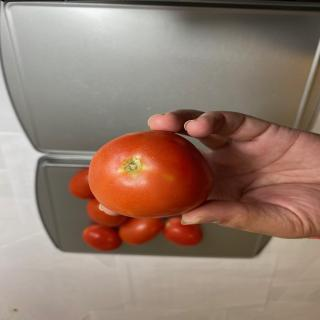Apple: (88, 130, 215, 218)
Chilli: (68, 168, 204, 251)
Tomato: (162, 216, 204, 246), (118, 217, 163, 245), (86, 198, 127, 228), (82, 224, 121, 251), (69, 168, 95, 199)
